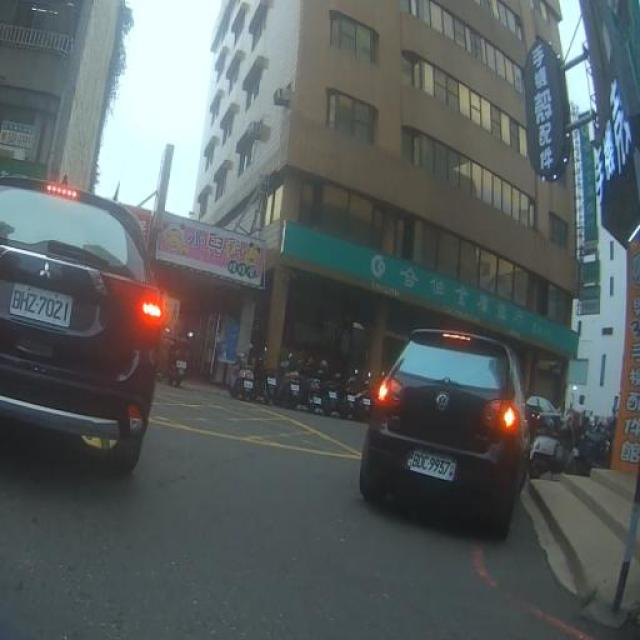illegalparking: (353, 302, 556, 542)
